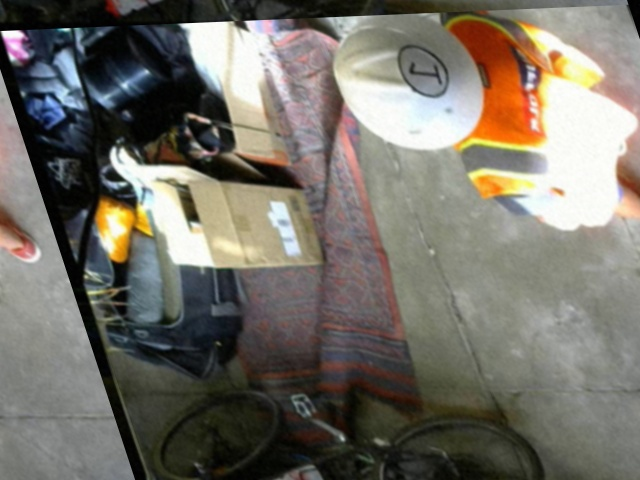one: (390, 44, 456, 98)
